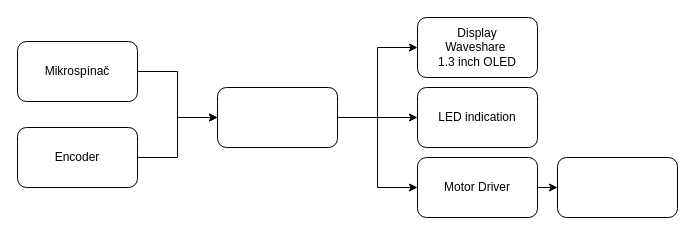
The diagram is 695 pixels wide and 235 high, and some of its shapes have lost their labels. The centre of each missing label's shape, as x and y in pixels:
"MCU RP PI Pico" belongs at point 277,117.
"Nema 17" belongs at point 617,187.
